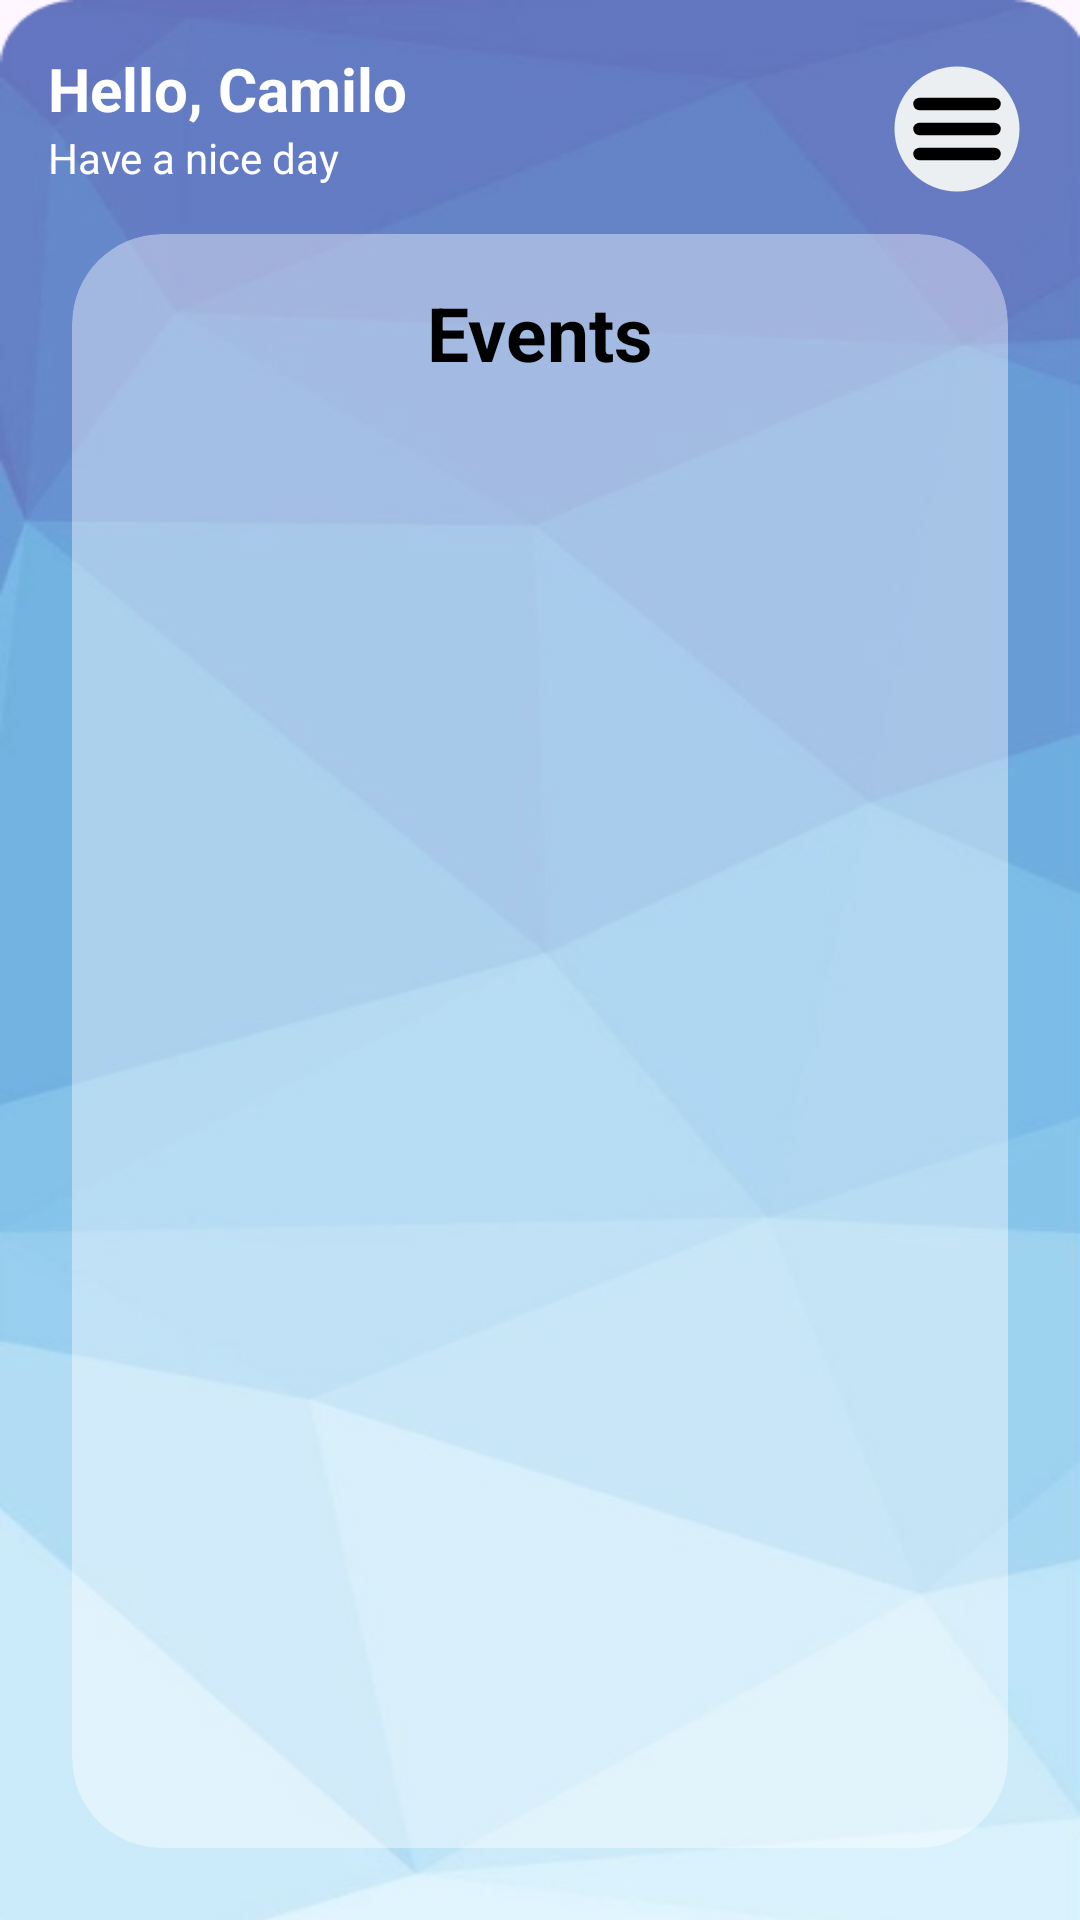

Screen size 1080px×1920px. Icon name, then its box in pixels as (x1, y1, x2, y2):
hamburger: (894, 66, 1020, 192)
